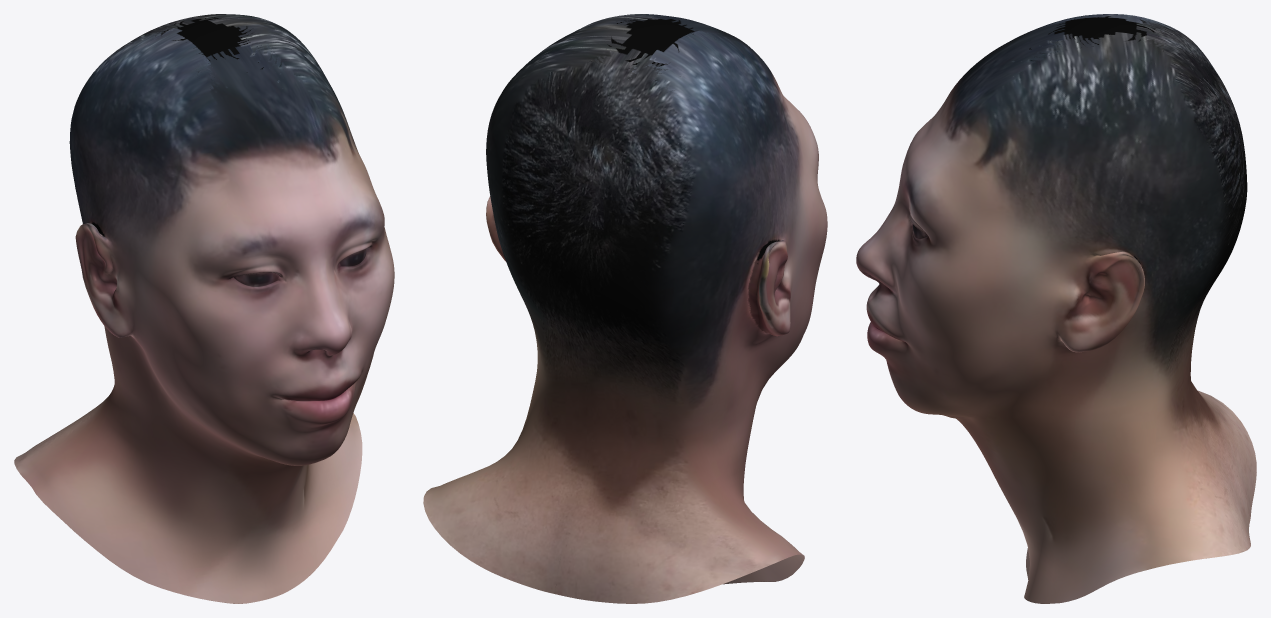
File: aaronmodel.gltf
3 renders of one model, left to right at view 1: azimuth 30°, elevation 25°; view 2: azimuth 150°, elevation 25°; view 3: azimuth 270°, elevation 25°, orthographic. The views are drawn at different scales.
Parts seen in each view (by area): view 1: FBHead; view 2: FBHead; view 3: FBHead.
Boxes of the visible parts, x1,y1,x2,y2 form: FBHead: (14,14,394,603); FBHead: (423,14,827,603); FBHead: (856,14,1256,603).
Size of the model in its own units: 1.59 by 2.51 by 1.64.
Materials: 1 (1 with a texture image).
